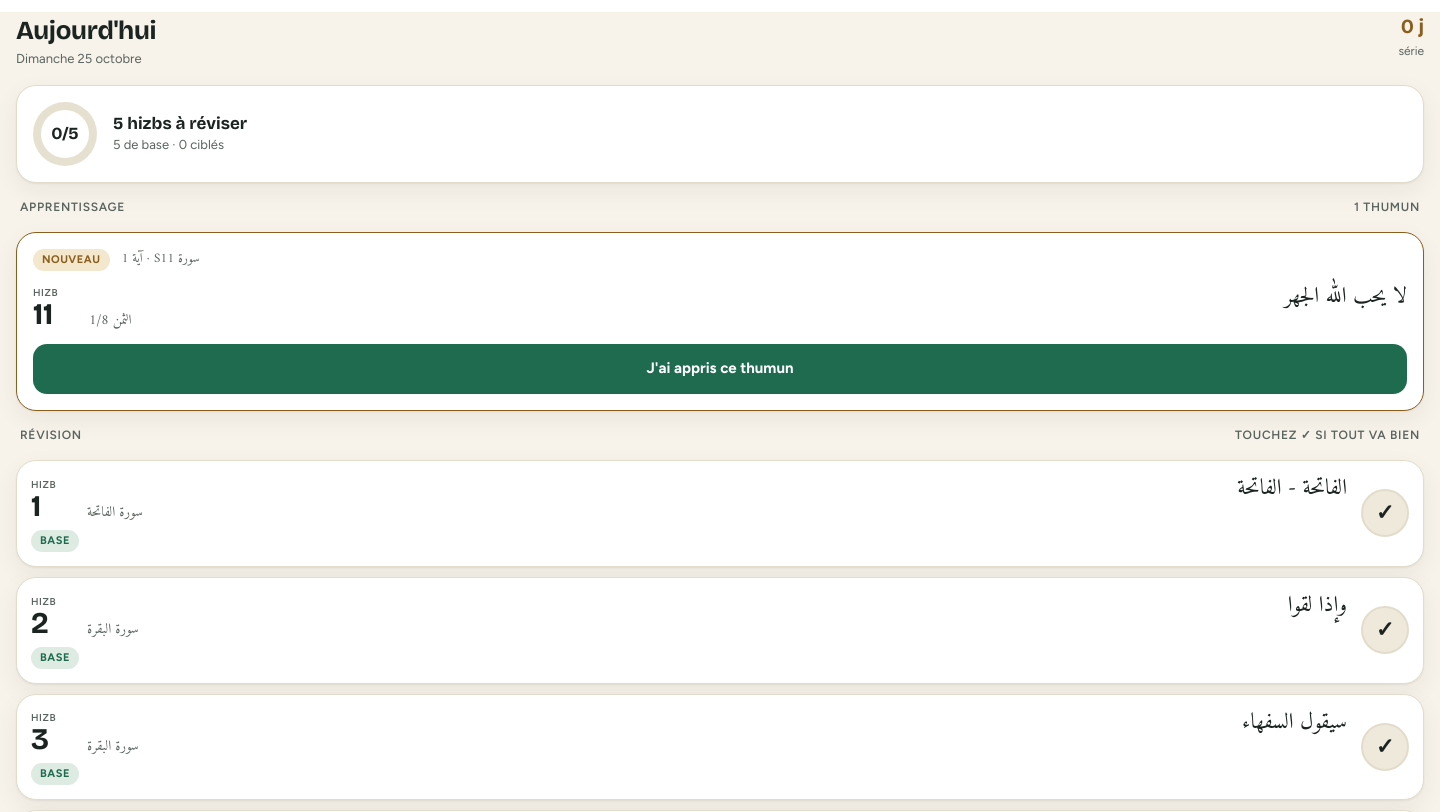
Test: Today › valider un hizb : anneau et dayLog concordent (1/5), la liste reste la même
Click the button named "tout va bien" at (1385, 747), box [1361,723,1409,771]
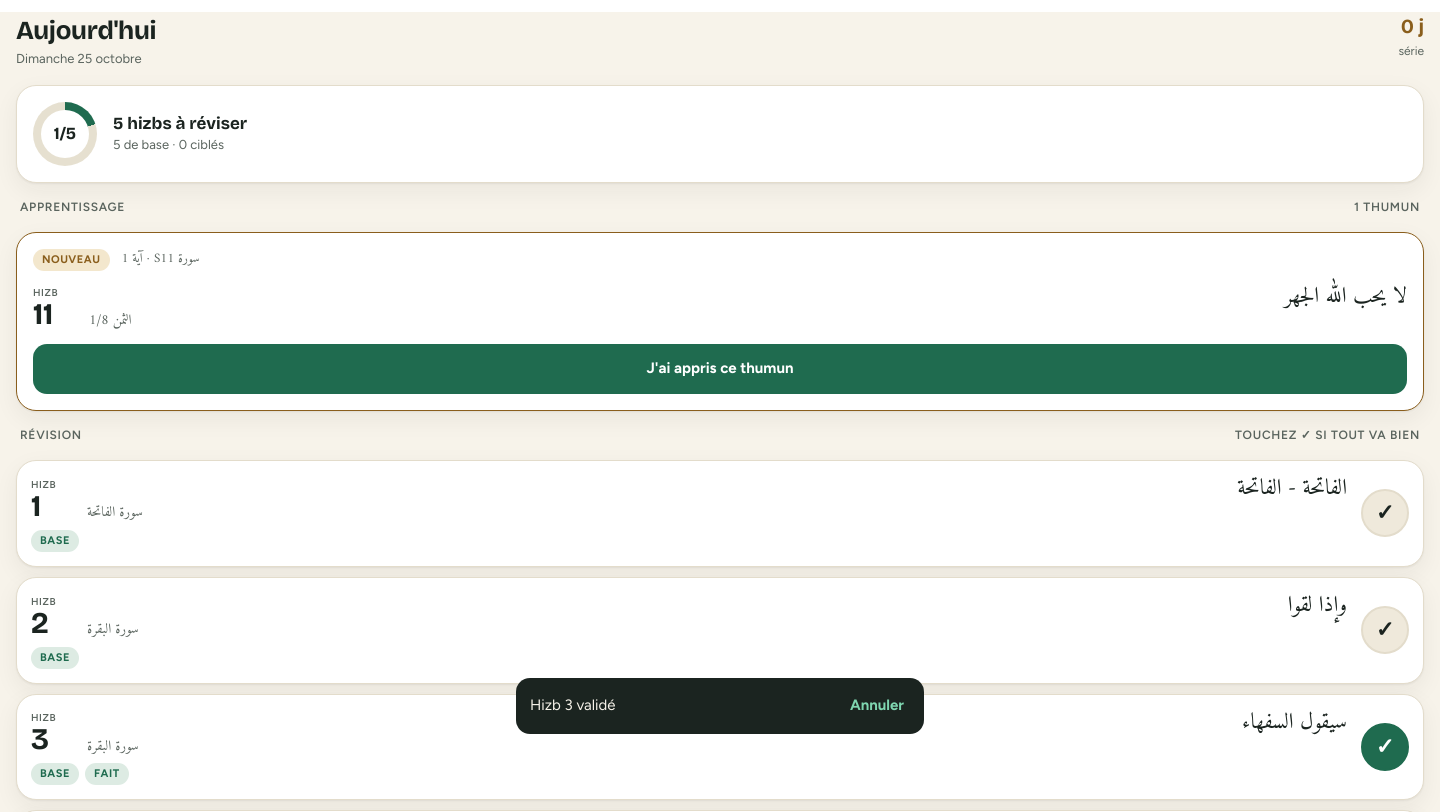
Expected: the text "1/5" is shown, [41,110,89,158]
